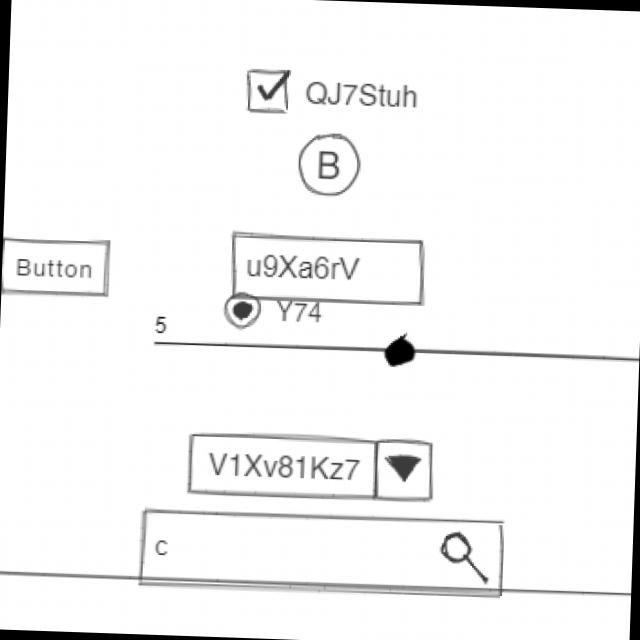button: (2, 234, 115, 300)
checkbox: (243, 66, 422, 122), (223, 291, 325, 333)
container: (1, 568, 632, 640)
icon-button: (297, 132, 363, 200)
input: (228, 229, 428, 308)
search: (137, 505, 510, 603)
select: (185, 428, 440, 506)
slider: (178, 324, 640, 378)
